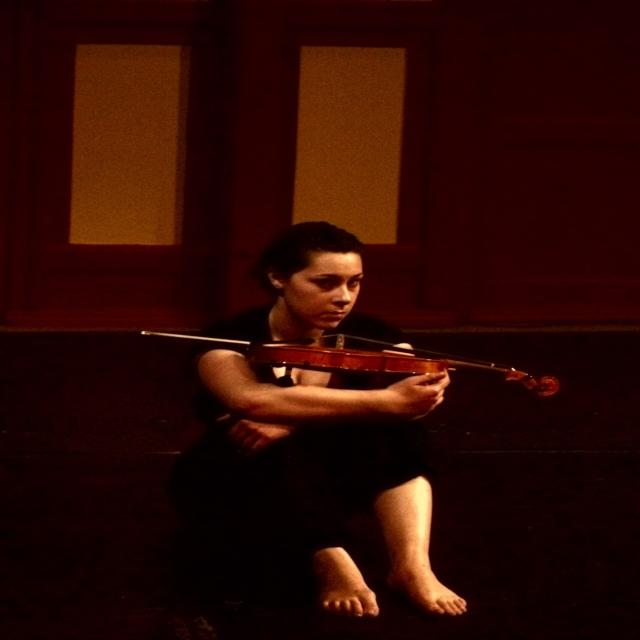violin: (241, 334, 572, 404)
